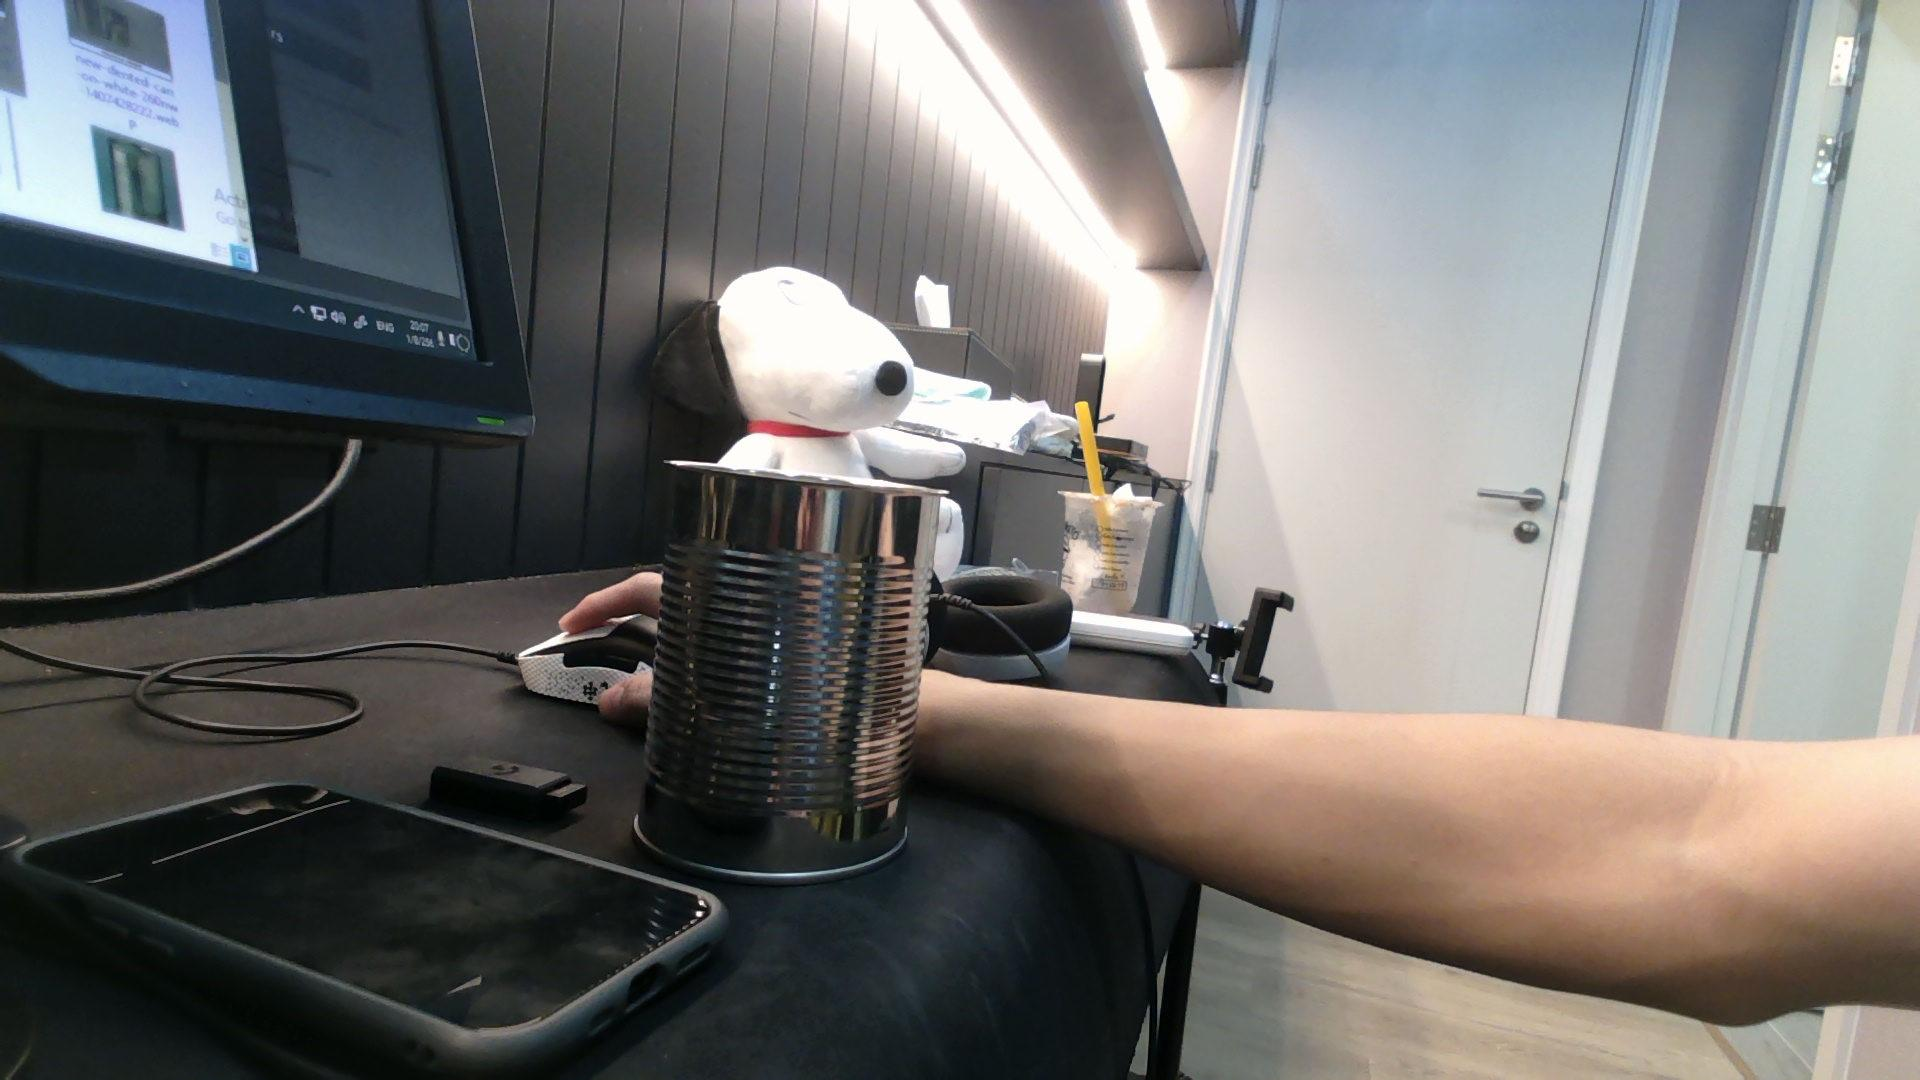metal: (595, 434, 955, 881)
